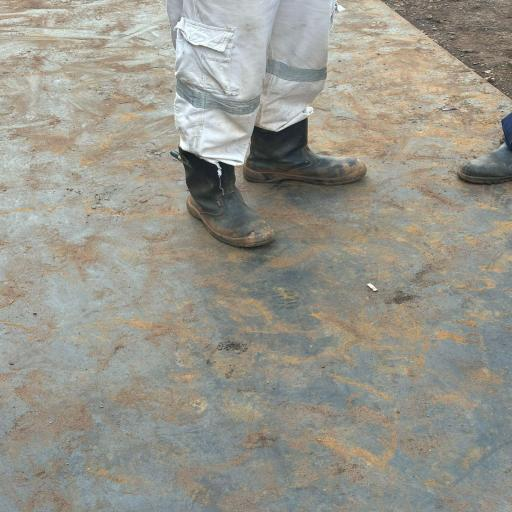safety_shoe: (166, 149, 284, 255), (240, 119, 372, 192), (457, 141, 512, 187)
